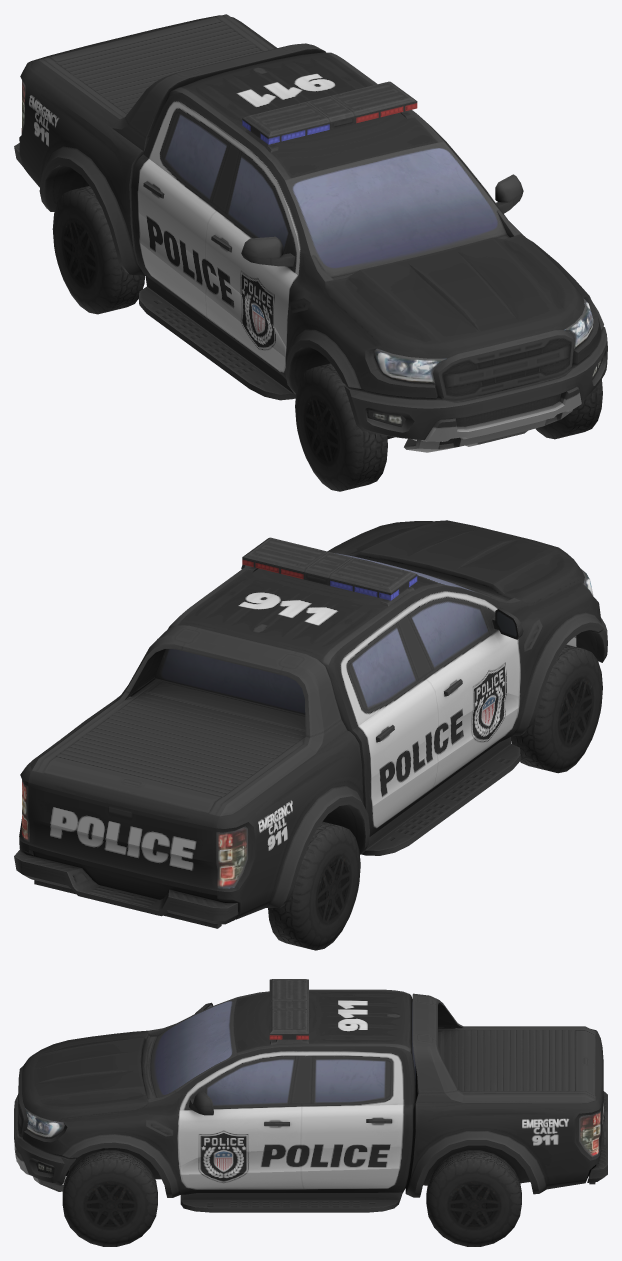
Rendered from policecar1.gltf.
3 views of the same model, one above another, from view 1: azimuth 30°, elevation 25°; view 2: azimuth 150°, elevation 25°; view 3: azimuth 270°, elevation 25° (orthographic). The views are drawn at different scales.
Visible parts, largest first — view 1: Ford_Raptor_BASE; view 2: Ford_Raptor_BASE; view 3: Ford_Raptor_BASE.
Boxes of the visible parts, left/top/right/bottom form: Ford_Raptor_BASE: left=14, top=14, right=607, bottom=491; Ford_Raptor_BASE: left=14, top=520, right=607, bottom=950; Ford_Raptor_BASE: left=14, top=979, right=607, bottom=1246.
Size of the model in its own units: 2.13 by 1.93 by 5.26.
Materials: 1 (1 with a texture image).
